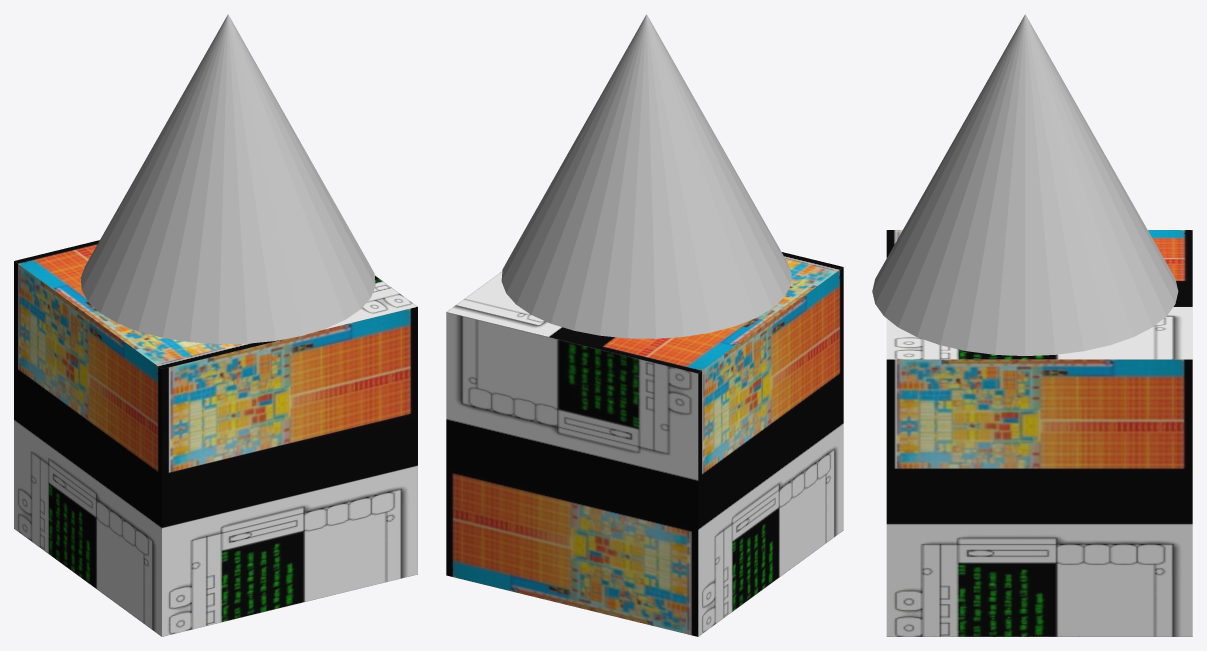
The model's file is textured_cube_with_cone.obj.
3 views of the same model, side by side, from view 1: azimuth 30°, elevation 25°; view 2: azimuth 150°, elevation 25°; view 3: azimuth 270°, elevation 25° (orthographic). The views are drawn at different scales.
Visible parts, largest first — view 1: Cube, Cone; view 2: Cube, Cone; view 3: Cube, Cone.
Boxes of the visible parts, left/top/right/bottom form: Cube: left=14, top=240, right=417, bottom=636; Cone: left=80, top=14, right=375, bottom=343; Cube: left=446, top=252, right=843, bottom=636; Cone: left=501, top=14, right=791, bottom=338; Cube: left=886, top=230, right=1192, bottom=636; Cone: left=872, top=14, right=1178, bottom=355.
Size of the model in its own units: 2.04 by 4.04 by 2.09.
